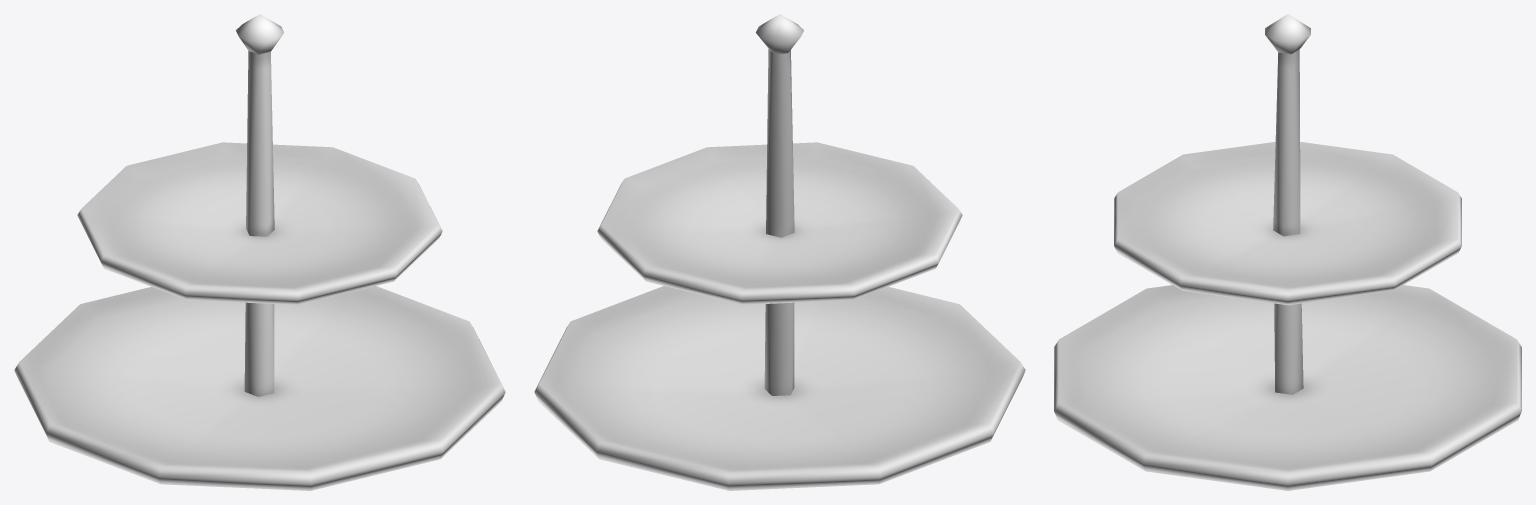
File: Cupcake_Tower.fbx
The picture shows the model from 3 angles, left to right: view 1: azimuth 30°, elevation 25°; view 2: azimuth 150°, elevation 25°; view 3: azimuth 270°, elevation 25°; orthographic projection.
Parts seen in each view (by area): view 1: Cupcake_Tower; view 2: Cupcake_Tower; view 3: Cupcake_Tower.
Boxes of the visible parts, bbox=[...] form: Cupcake_Tower: bbox=[14, 14, 505, 490]; Cupcake_Tower: bbox=[534, 14, 1025, 490]; Cupcake_Tower: bbox=[1054, 14, 1521, 490].
Size of the model in its own units: 144 by 125 by 137.
